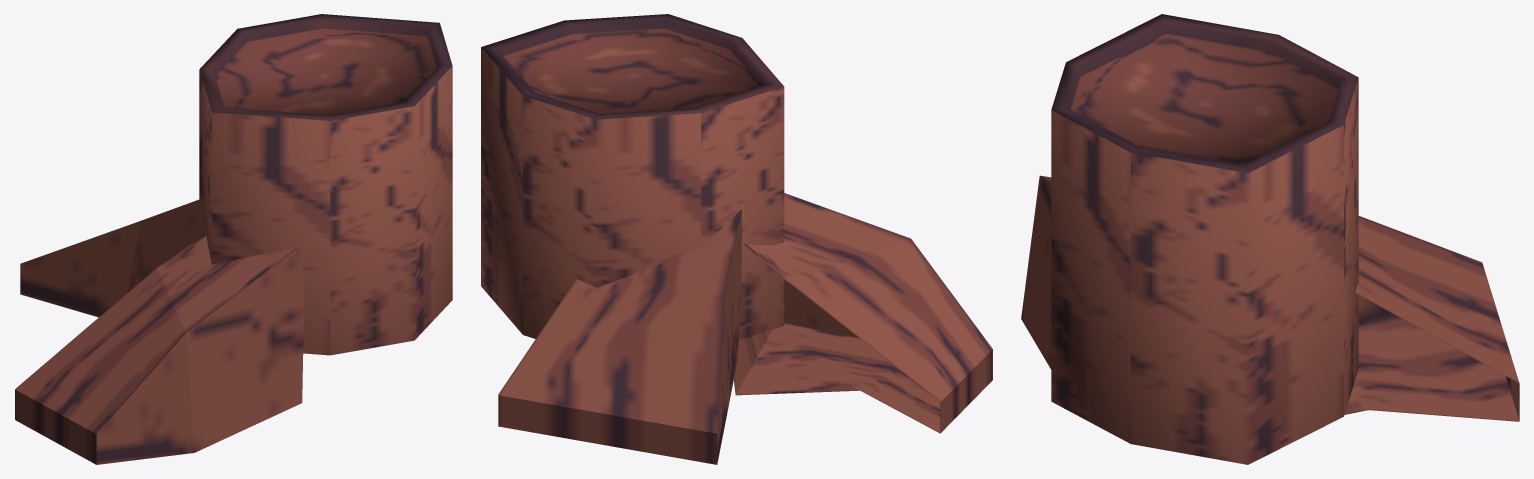
Rendered from TroncoDeArvore.fbx.
3 renders of one model, left to right at view 1: azimuth 30°, elevation 25°; view 2: azimuth 150°, elevation 25°; view 3: azimuth 270°, elevation 25°, orthographic. The views are drawn at different scales.
Visible parts, largest first — view 1: TroncoDeArvore; view 2: TroncoDeArvore; view 3: TroncoDeArvore.
Part boxes in pixels (box(x1,y1,x2,y2)): TroncoDeArvore: box(15, 14, 452, 464); TroncoDeArvore: box(481, 14, 992, 464); TroncoDeArvore: box(1021, 14, 1519, 464).
Bounding box in the file's own units: 251 × 199 × 154.
